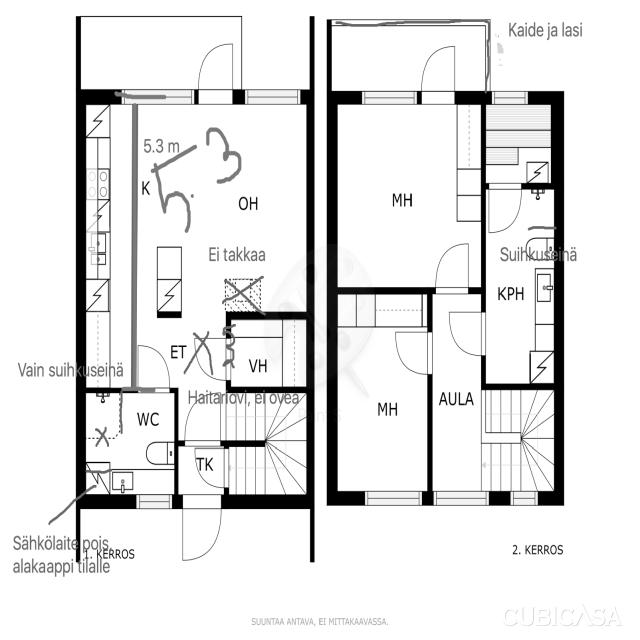door: (178, 494, 225, 566), (416, 40, 461, 109), (194, 38, 238, 106), (428, 236, 475, 298), (446, 300, 490, 362), (389, 323, 437, 378), (483, 179, 523, 236), (134, 342, 174, 393), (182, 398, 222, 448), (192, 446, 226, 494), (196, 346, 218, 381)
window: (115, 83, 198, 106), (238, 83, 307, 110), (357, 484, 428, 510), (355, 83, 421, 109), (429, 486, 496, 511), (486, 85, 535, 109), (505, 485, 543, 509), (134, 490, 176, 511)
zone: (81, 97, 312, 316), (332, 96, 484, 292), (332, 291, 430, 499), (482, 191, 559, 389), (429, 287, 486, 494), (81, 389, 178, 495), (482, 97, 559, 190), (227, 317, 310, 391)
